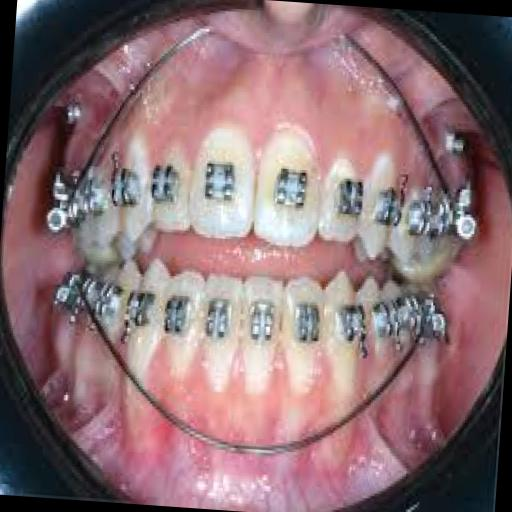correct_brace: (244, 290, 282, 366), (268, 164, 312, 226), (200, 290, 236, 361), (290, 293, 328, 359), (122, 280, 156, 348), (202, 152, 242, 204), (332, 296, 367, 353), (160, 287, 194, 344), (107, 163, 144, 215), (334, 168, 362, 231), (372, 180, 404, 235), (149, 160, 181, 214)
incorrect_brace: (276, 272, 326, 386), (160, 260, 208, 376), (148, 130, 194, 232), (319, 150, 364, 250)
